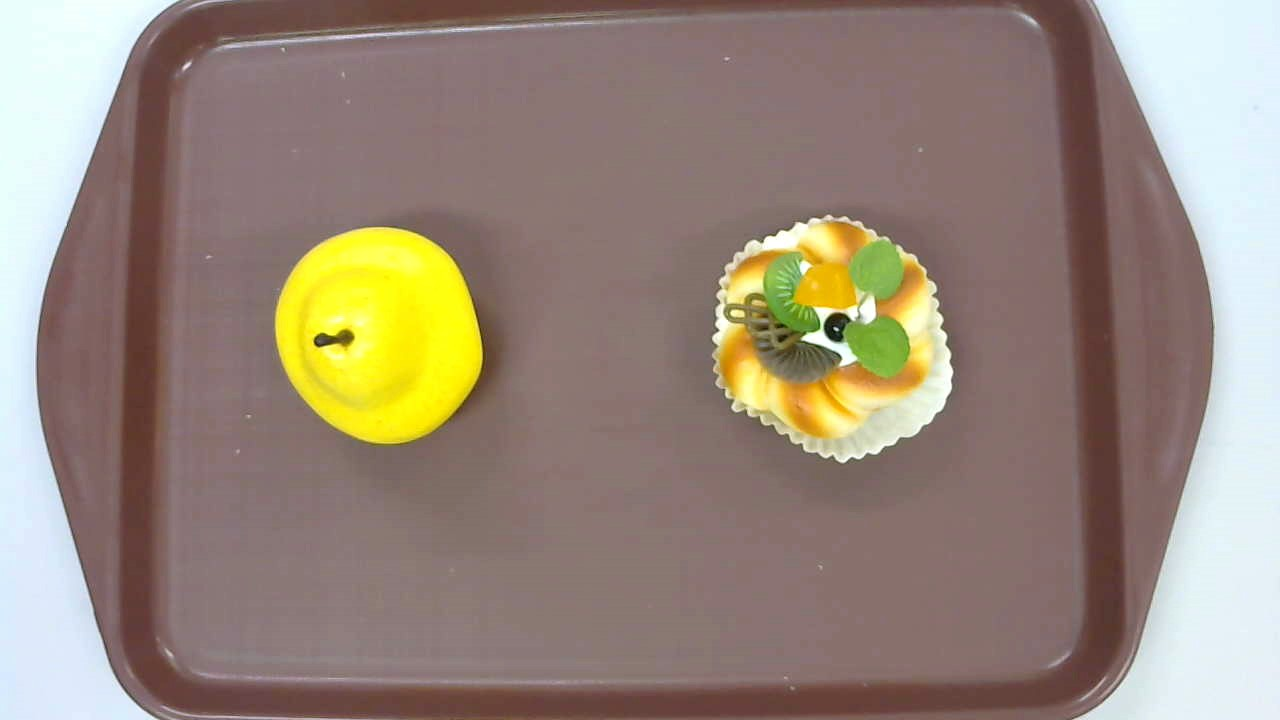fruit tart: (711, 215, 953, 464)
yellow pear: (274, 226, 483, 444)
